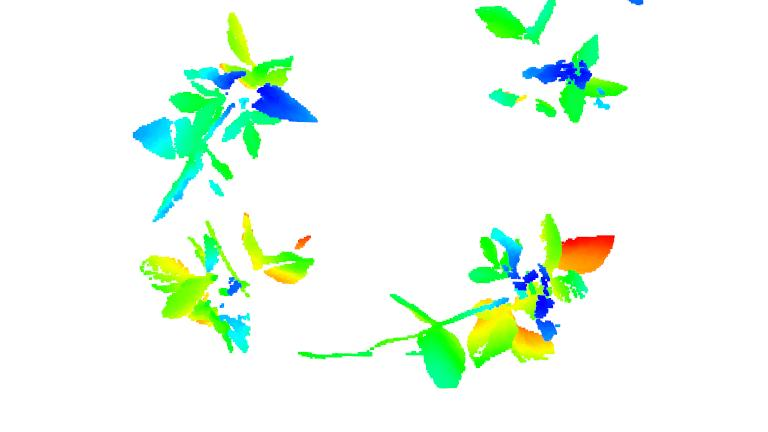mungbean: (384, 213, 618, 391), (143, 10, 314, 226), (130, 216, 316, 354), (467, 1, 626, 121)
